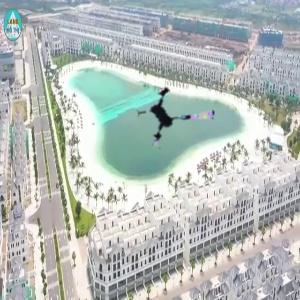drone: (133, 69, 215, 151)
